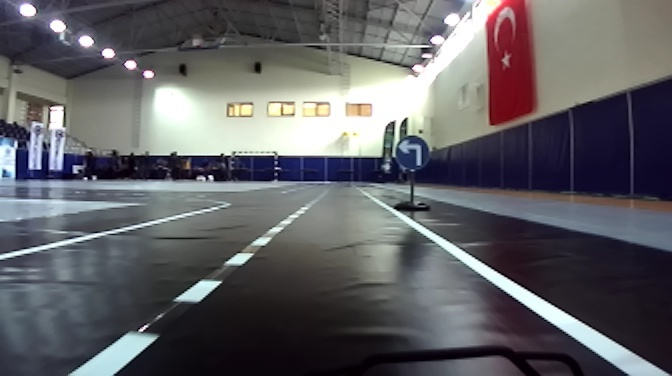sola_donus: (391, 136, 433, 169)
